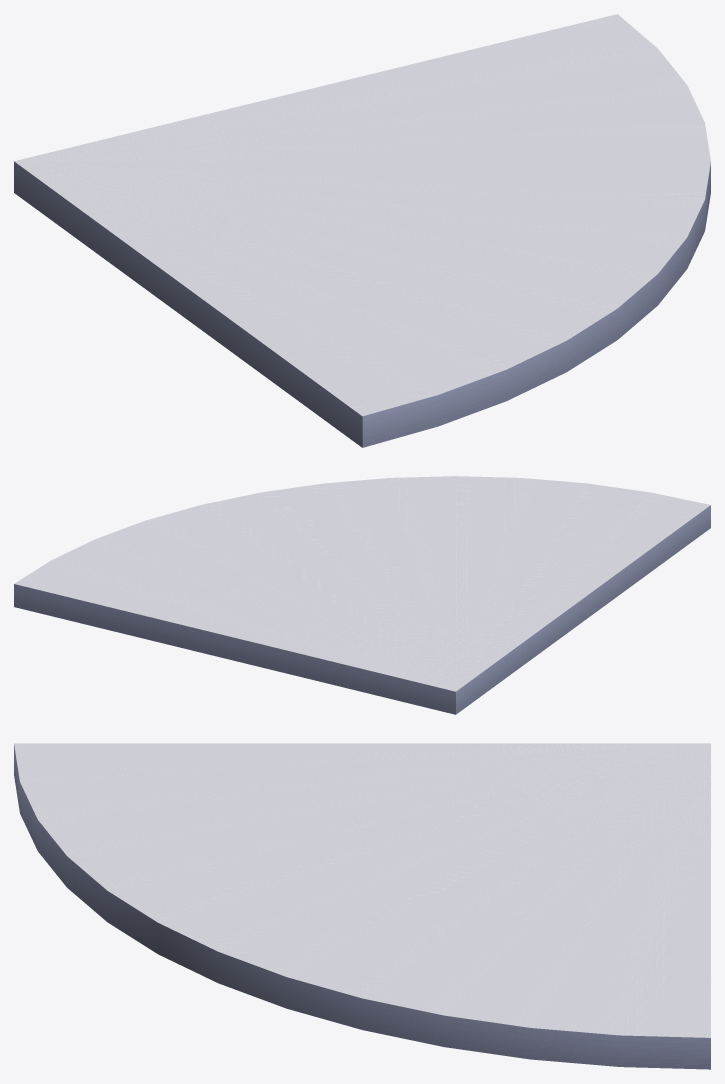
Rendered from floor-corner-round.glb.
3 renders of one model, top to bottom at view 1: azimuth 30°, elevation 25°; view 2: azimuth 150°, elevation 25°; view 3: azimuth 270°, elevation 25°, orthographic. The views are drawn at different scales.
Visible parts, largest first — view 1: floor-corner-round; view 2: floor-corner-round; view 3: floor-corner-round.
Part boxes in pixels (bbox=[...]): floor-corner-round: bbox=[14, 14, 710, 447]; floor-corner-round: bbox=[14, 476, 710, 714]; floor-corner-round: bbox=[14, 743, 710, 1069].
Bounding box in the file's own units: 2 × 0.1 × 2.
1 material, 1 textured.
